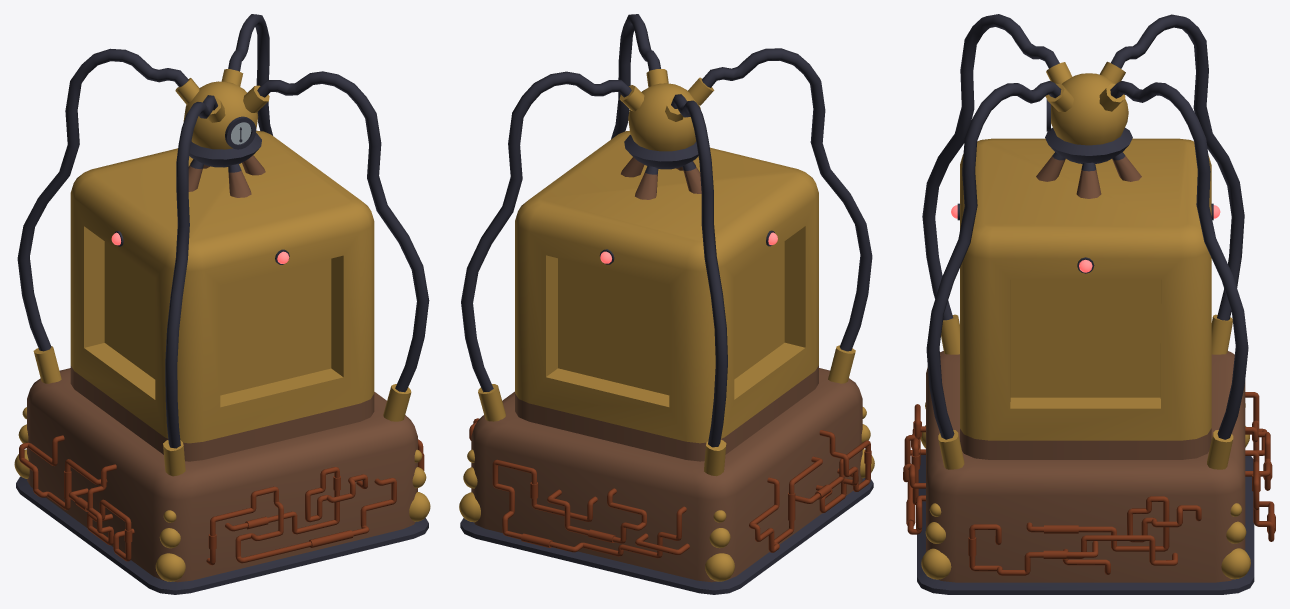
Rendered from Bomb 1.fbx.
3 views of the same model, side by side, from view 1: azimuth 30°, elevation 25°; view 2: azimuth 150°, elevation 25°; view 3: azimuth 270°, elevation 25° (orthographic). The views are drawn at different scales.
Parts seen in each view (by area): view 1: PuzzleMachine_Body; view 2: PuzzleMachine_Body; view 3: PuzzleMachine_Body.
Part boxes in pixels (left/top/right/bottom): PuzzleMachine_Body: left=14, top=14, right=430, bottom=594; PuzzleMachine_Body: left=459, top=14, right=874, bottom=594; PuzzleMachine_Body: left=903, top=14, right=1275, bottom=594.
Bounding box in the file's own units: 3593 × 4860 × 3476.
